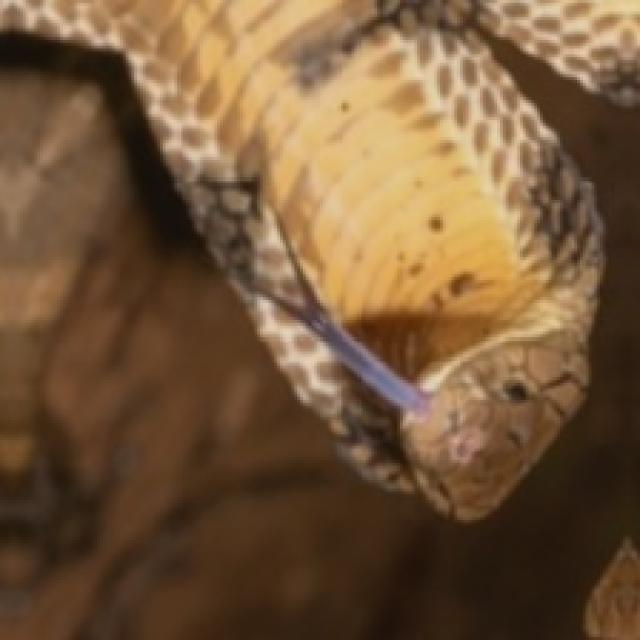king cobra: (0, 0, 637, 517)
